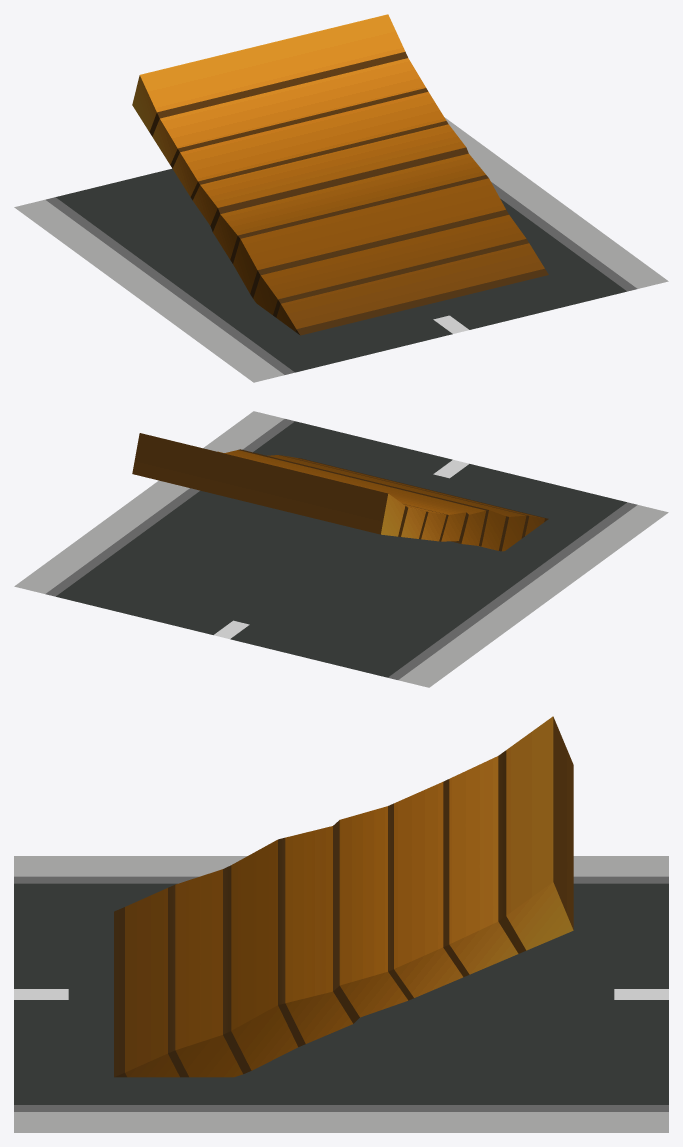
The model's file is SM_Road_Ramp.fbx.
3 renders of one model, top to bottom at view 1: azimuth 30°, elevation 25°; view 2: azimuth 150°, elevation 25°; view 3: azimuth 270°, elevation 25°, orthographic. The views are drawn at different scales.
Parts seen in each view (by area): view 1: Ramp, Tile_Road_Ramp; view 2: Tile_Road_Ramp, Ramp; view 3: Tile_Road_Ramp, Ramp.
Boxes of the visible parts, x1,y1,x2,y2 form: Ramp: (132, 14, 548, 335); Tile_Road_Ramp: (14, 117, 668, 382); Tile_Road_Ramp: (14, 411, 668, 687); Ramp: (132, 433, 548, 551); Tile_Road_Ramp: (14, 856, 668, 1132); Ramp: (114, 716, 573, 1077).
Bounding box in the file's own units: 1000 × 397 × 1000.
Materials: 1 (1 with a texture image).
